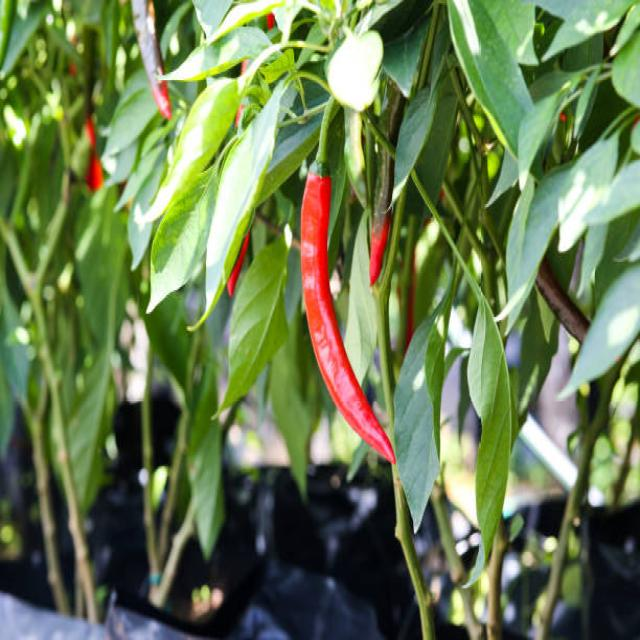Ripe: (301, 172, 395, 462)
